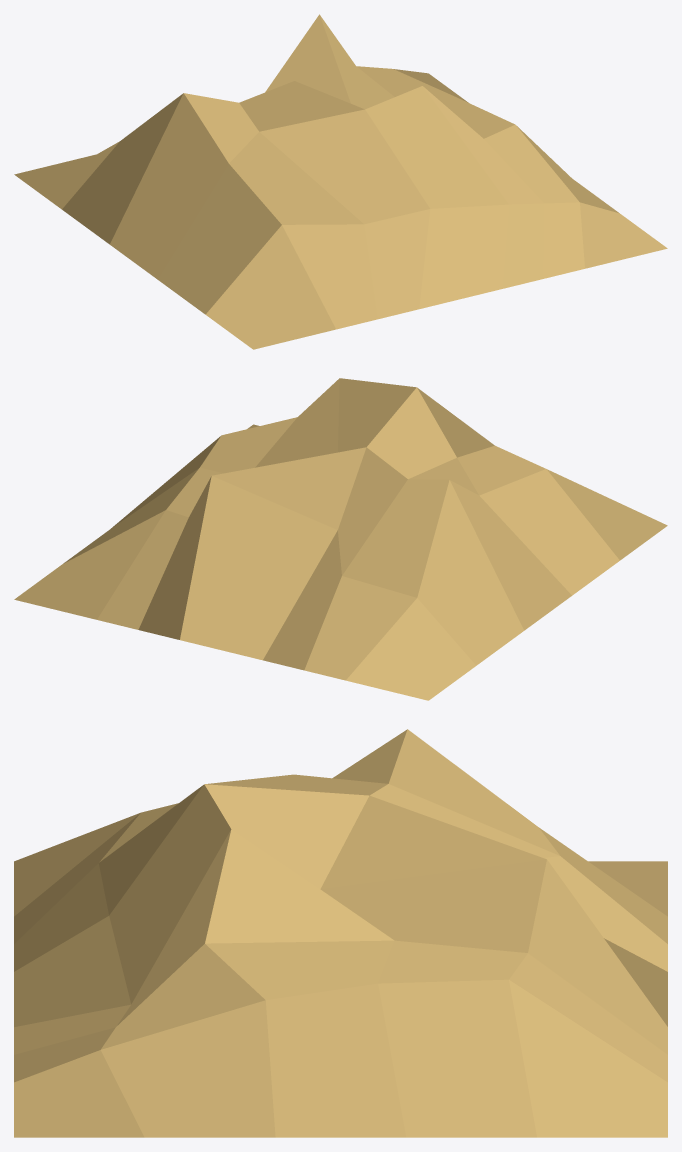
Rendered from SandMount_3.fbx.
The picture shows the model from 3 angles, top to bottom: view 1: azimuth 30°, elevation 25°; view 2: azimuth 150°, elevation 25°; view 3: azimuth 270°, elevation 25°; orthographic projection. The views are drawn at different scales.
Parts seen in each view (by area): view 1: Plane; view 2: Plane; view 3: Plane.
Part boxes in pixels (box(x1,y1,x2,y2)): Plane: box(14, 14, 667, 349); Plane: box(14, 378, 667, 700); Plane: box(14, 729, 667, 1137).
Size of the model in its own units: 200 by 66.86 by 200.
